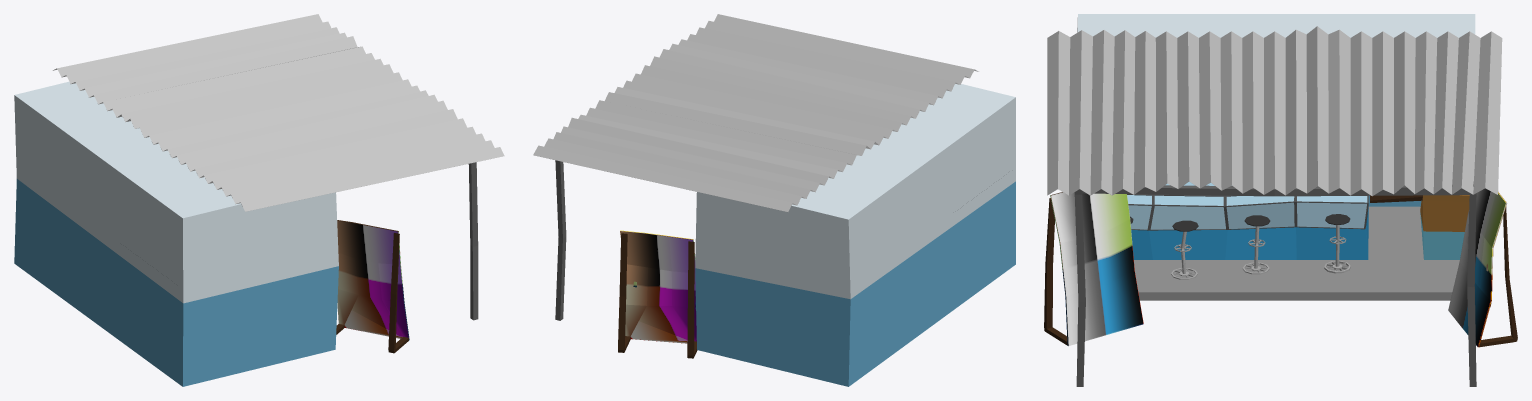
The model's file is konter pulsa.fbx.
The picture shows the model from 3 angles, left to right: view 1: azimuth 30°, elevation 25°; view 2: azimuth 150°, elevation 25°; view 3: azimuth 270°, elevation 25°; orthographic projection. The views are drawn at different scales.
Parts seen in each view (by area): view 1: Cube, Cube.030, Cube.029, Cube.031; view 2: Cube, Cube.030, Cube.028, Cube.031; view 3: Cube.030, Cube, Cube.001, Cube.029, Cube.031, Cube.028, Cube.002, Cylinder.003, Cylinder, Cylinder.001.
Boxes of the visible parts, x1,y1,x2,y2 form: Cube: [14, 81, 338, 386]; Cube.030: [53, 14, 504, 211]; Cube.029: [336, 220, 409, 353]; Cube.031: [468, 162, 478, 320]; Cube: [695, 84, 1015, 386]; Cube.030: [533, 14, 978, 211]; Cube.028: [618, 230, 697, 358]; Cube.031: [555, 160, 566, 320]; Cube.030: [1047, 26, 1502, 196]; Cube: [1077, 14, 1475, 300]; Cube.001: [1127, 181, 1368, 259]; Cube.029: [1044, 192, 1143, 346]; Cube.031: [1074, 181, 1476, 386]; Cube.028: [1448, 188, 1517, 347]; Cube.002: [1370, 195, 1469, 259]; Cylinder.003: [1324, 214, 1350, 273]; Cylinder: [1242, 215, 1270, 274]; Cylinder.001: [1171, 220, 1198, 279].
Size of the model in its own units: 675 by 390 by 760.
